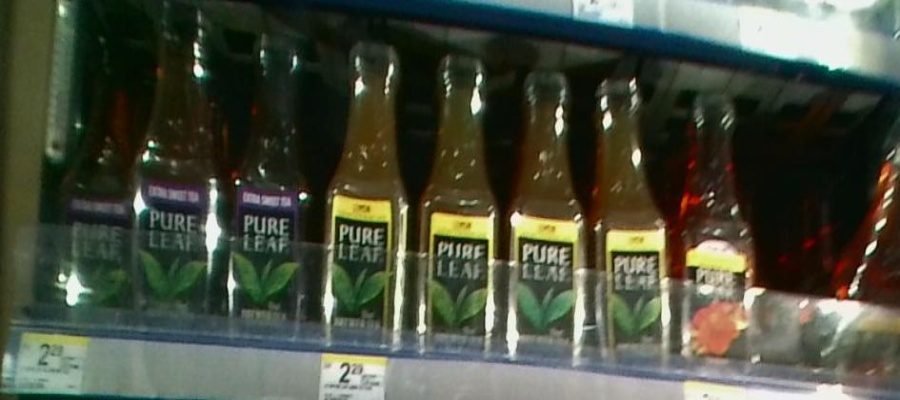bottle: (132, 1, 223, 325), (413, 36, 502, 367), (324, 27, 410, 359), (229, 5, 312, 340), (504, 64, 589, 371), (675, 81, 759, 376), (590, 73, 671, 371), (61, 20, 130, 313), (857, 108, 900, 247)
